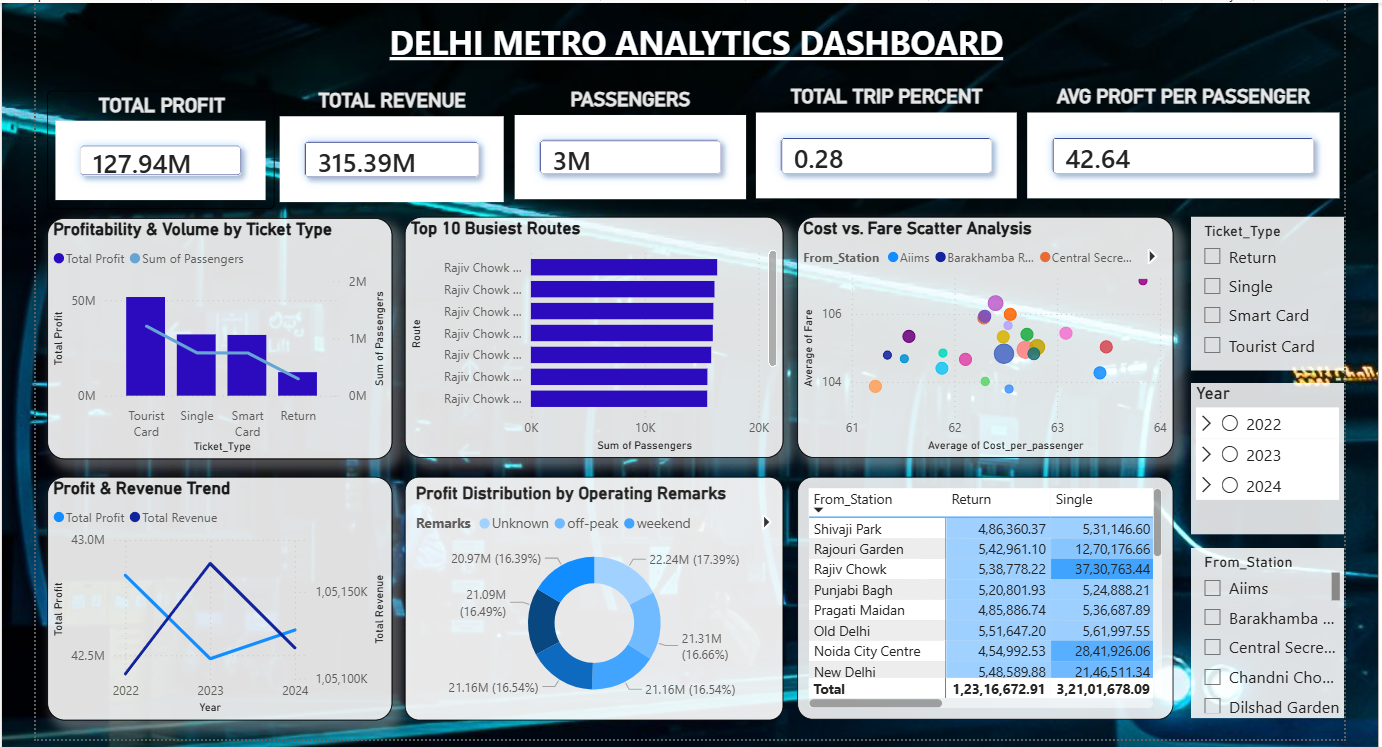

Layout of this report page (visuals, bound fields, positions):
{"tool":"powerbi","page":{"name":"Page 1","canvas":[1280,720],"ordinal":0},"visuals":[{"type":"cardVisual","title":"TOTAL PROFIT","fields":{"Data":["Worksheet.Total Profit"]},"box":[11,85.6,222.6,116.2],"z":0},{"type":"cardVisual","title":"TOTAL REVENUE","fields":{"Data":["Worksheet.Total Revenue"]},"box":[233.6,84.4,229.9,116.2],"z":1000},{"type":"cardVisual","title":"PASSENGERS","fields":{"Data":["Sum(Worksheet.Passengers)"]},"box":[463.5,83.2,236,113.7],"z":2000},{"type":"cardVisual","title":"TOTAL TRIP PERCENT","fields":{"Data":["Worksheet.Loss Trip Percentage"]},"box":[699.5,80.7,265.4,116.2],"z":3000},{"type":"cardVisual","title":"AVG PROFT PER PASSENGER","fields":{"Data":["Avg(Worksheet.Profit_per_passenger)"]},"box":[964.8,80.7,315.5,116.2],"z":4000},{"type":"lineStackedColumnComboChart","title":"Profitability & Volume by Ticket Type","fields":{"Category":["Worksheet.Ticket_Type"],"Y":["Worksheet.Total Profit"],"Y2":["Sum(Worksheet.Passengers)"]},"box":[11,210.3,337.5,236],"z":5000},{"type":"lineChart","title":"Profit & Revenue Trend","fields":{"Category":["Worksheet.Date.Variation.Date Hierarchy.Year","Worksheet.Date.Variation.Date Hierarchy.Month"],"Y":["Worksheet.Total Profit"],"Y2":["Worksheet.Total Revenue"]},"box":[11,463.5,337.5,238.5],"z":6000},{"type":"clusteredBarChart","title":"Top 10 Busiest Routes","fields":{"Category":["Worksheet.Route"],"Y":["Sum(Worksheet.Passengers)"]},"box":[360.7,209.1,370.5,236],"z":7000},{"type":"donutChart","title":"Profit Distribution by Operating Remarks","fields":{"Category":["Worksheet.Remarks"],"Y":["Worksheet.Total Profit"]},"box":[360.7,463.5,370.5,238.5],"z":8000},{"type":"scatterChart","title":"Cost vs. Fare Scatter Analysis","fields":{"X":["Avg(Worksheet.Cost_per_passenger)"],"Y":["Avg(Worksheet.Fare)"],"Size":["Sum(Worksheet.Passengers)"],"Series":["Worksheet.From_Station"]},"box":[744.7,209.1,368.1,236],"z":9000},{"type":"pivotTable","fields":{"Rows":["Worksheet.From_Station"],"Columns":["Worksheet.Ticket_Type"],"Values":["Worksheet.Total Profit"]},"box":[744.7,462.2,368.1,237.2],"z":10000},{"type":"slicer","fields":{"Values":["Worksheet.Ticket_Type"]},"box":[1129.9,209.1,150.4,150.4],"z":11000},{"type":"listSlicer","fields":{"Values":["Worksheet.Date.Variation.Date Hierarchy.Year","Worksheet.Date.Variation.Date Hierarchy.Quarter","Worksheet.Date.Variation.Date Hierarchy.Month","Worksheet.Date.Variation.Date Hierarchy.Day"]},"box":[1129.9,371.7,150.4,148],"z":12000},{"type":"slicer","fields":{"Values":["Worksheet.From_Station"]},"box":[1129.9,533.2,150.4,166.3],"z":13000},{"type":"textbox","box":[0,0,1280.3,67.3],"z":14000}]}

Visuals, with their boxes in screenshot pixels (x1, y1, x2, y2):
"TOTAL PROFIT" cardVisual: 40/88/268/207
"TOTAL REVENUE" cardVisual: 268/87/504/206
"PASSENGERS" cardVisual: 504/85/746/202
"TOTAL TRIP PERCENT" cardVisual: 746/83/1018/202
"AVG PROFT PER PASSENGER" cardVisual: 1018/83/1342/202
"Profitability & Volume by Ticket Type" lineStackedColumnComboChart: 40/216/386/458
"Profit & Revenue Trend" lineChart: 40/475/386/720
"Top 10 Busiest Routes" clusteredBarChart: 399/214/779/456
"Profit Distribution by Operating Remarks" donutChart: 399/475/779/720
"Cost vs. Fare Scatter Analysis" scatterChart: 792/214/1170/456
pivotTable - Worksheet.From_Station x Worksheet.Ticket_Type: 792/474/1170/717
slicer - Worksheet.Ticket_Type: 1187/214/1342/369
listSlicer - Worksheet.Date.Variation.Date Hierarchy.Year x Worksheet.Date.Variation.Date Hierarchy.Quarter: 1187/381/1342/533
slicer - Worksheet.From_Station: 1187/547/1342/717
textbox: 29/0/1342/69
